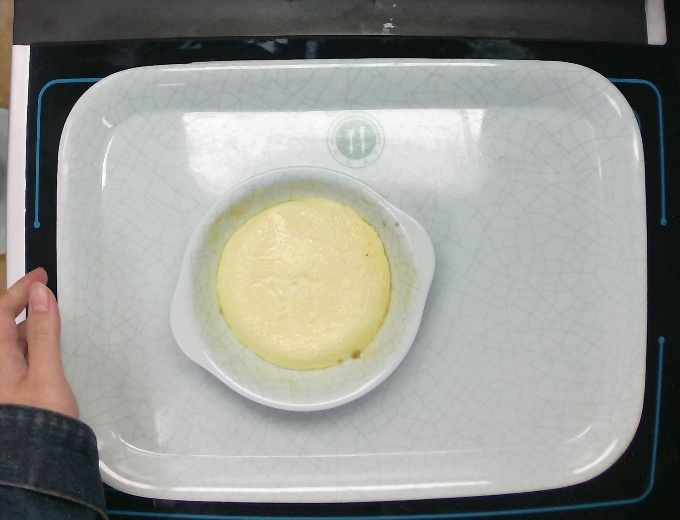JYsf-Shuang_Er_Wan: (166, 158, 442, 419)
